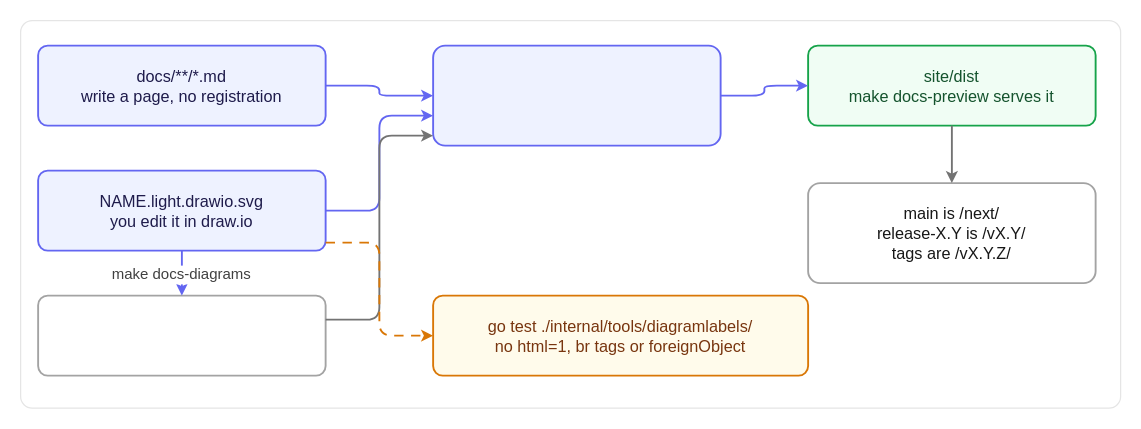
Some shapes in this 1141 by 429 pixel diagram are drawn without their labels. The shapes that lost their labels are listed below. From the top down, each one's centre as x and y in pixels, then its label:
At [576,95]: "make docs-site Astro build, link and fence check, Pagefind index".
At [181,335]: "NAME.dark.drawio.svg generated, never edited".
